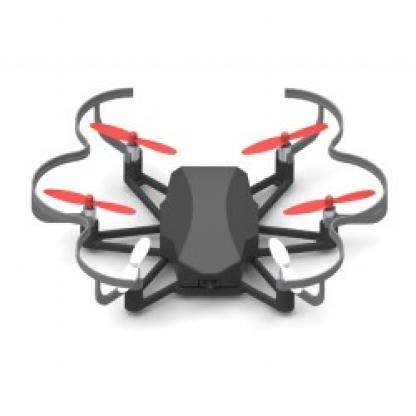drone: (23, 85, 398, 314)
